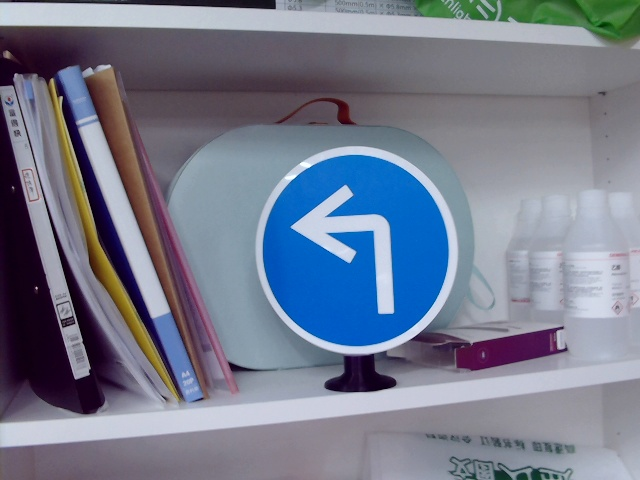turn_left: (294, 185, 403, 319)
